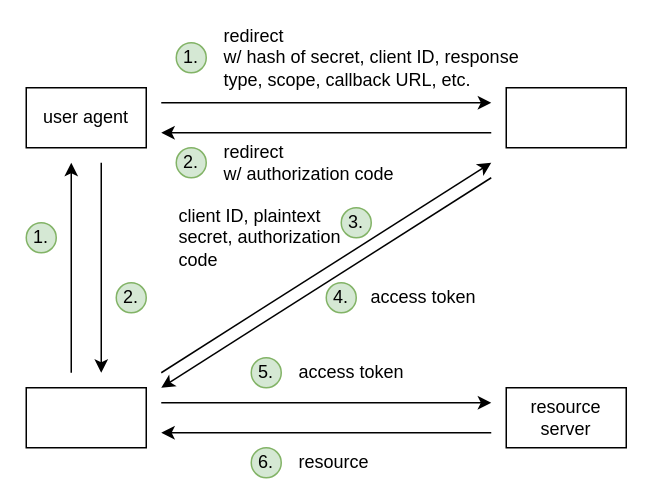
Some shapes in this 653 by 504 pixel diagram are drawn without their labels. Each missing label, with the centre of its shape:
authorization server: the point at 565,117
client: the point at 85,417
